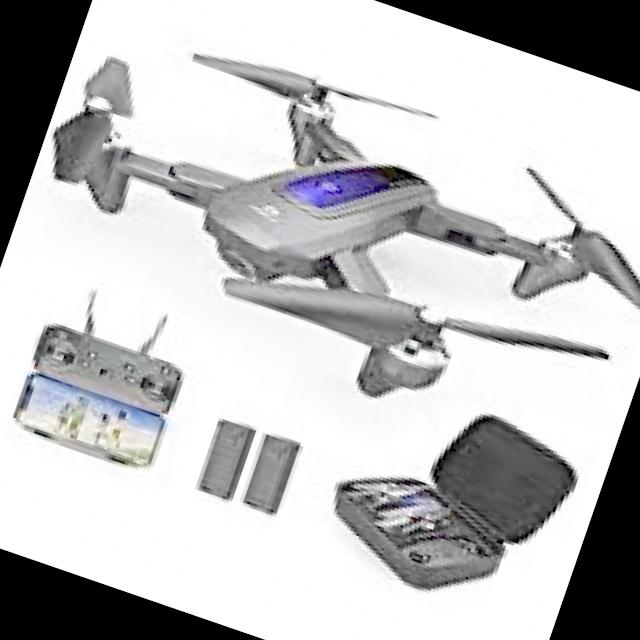drone: (4, 0, 640, 492)
